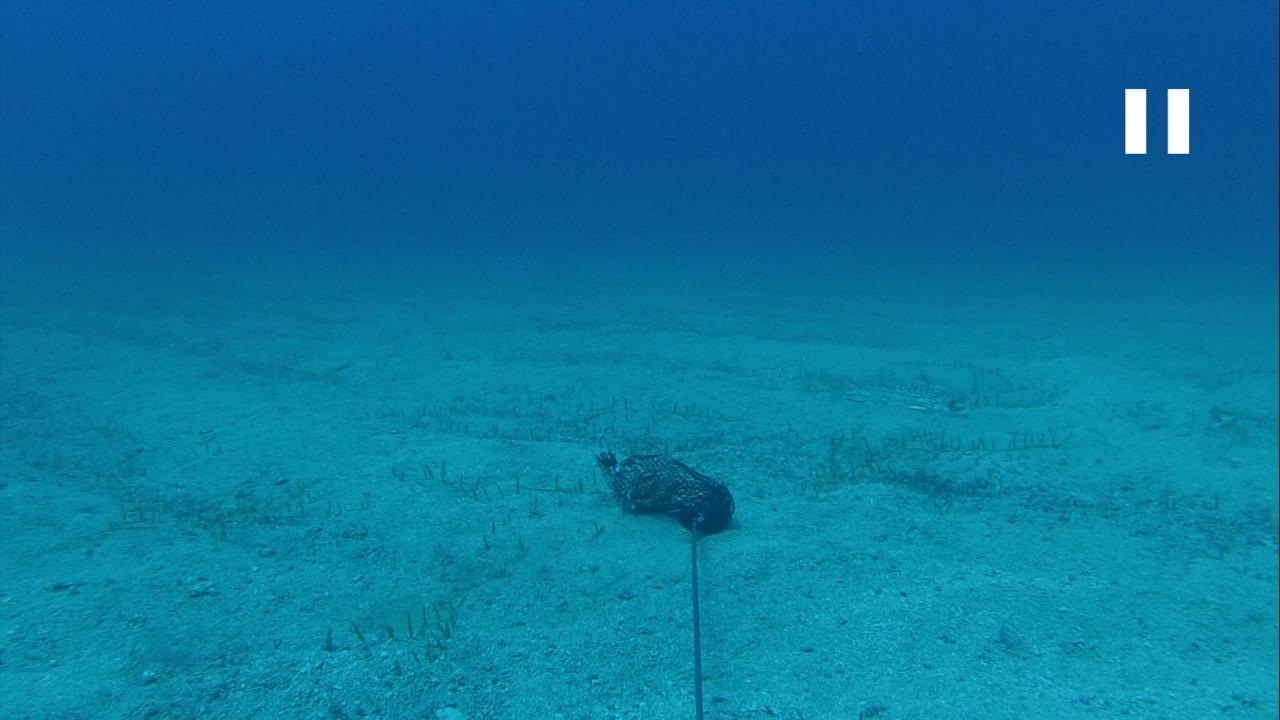dactylopterus: (853, 367, 984, 428)
